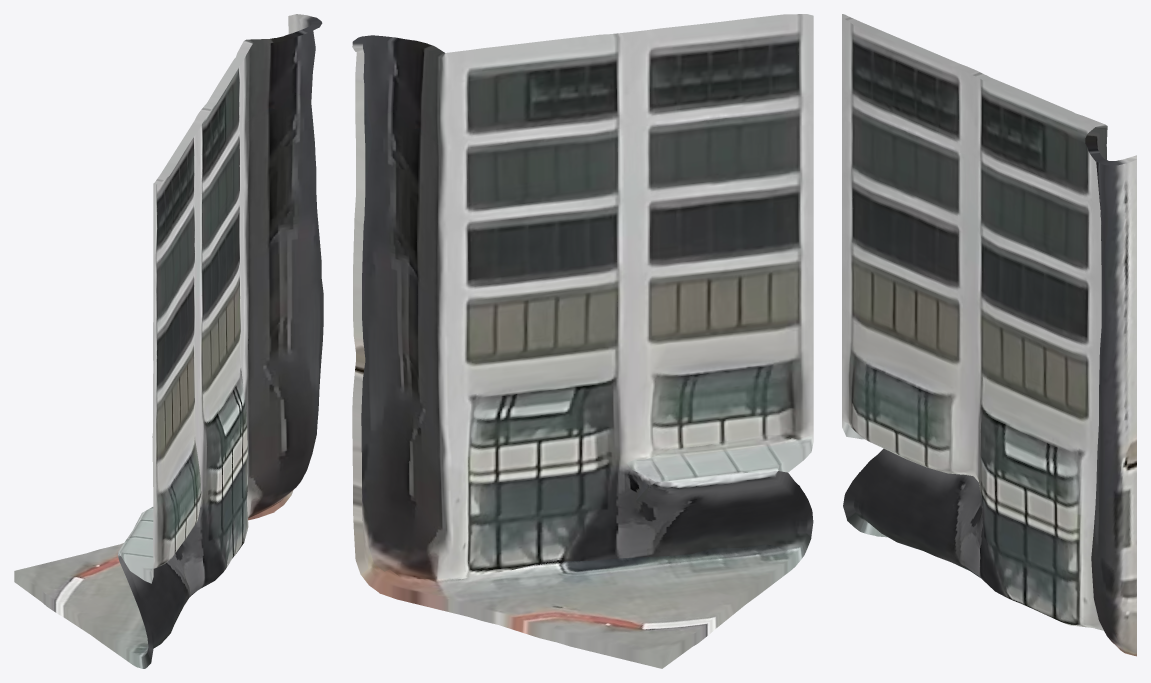
The model's file is z20-167787-405228-h0-yup-uvflip-v3-world.glb.
3 views of the same model, side by side, from view 1: azimuth 30°, elevation 25°; view 2: azimuth 150°, elevation 25°; view 3: azimuth 270°, elevation 25° (orthographic). The views are drawn at different scales.
Bounding box in the file's own units: 16.72 × 27.12 × 13.72.
1 material, 1 textured.
